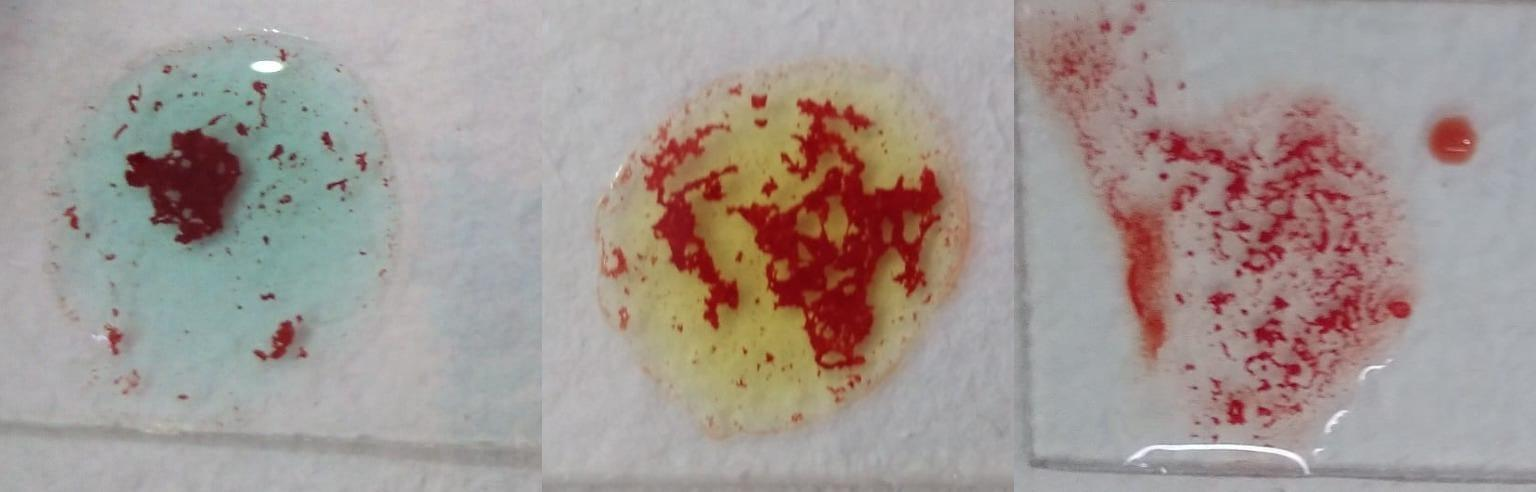A: (73, 30, 384, 424)
B: (606, 43, 964, 446)
D: (1102, 93, 1423, 461)
